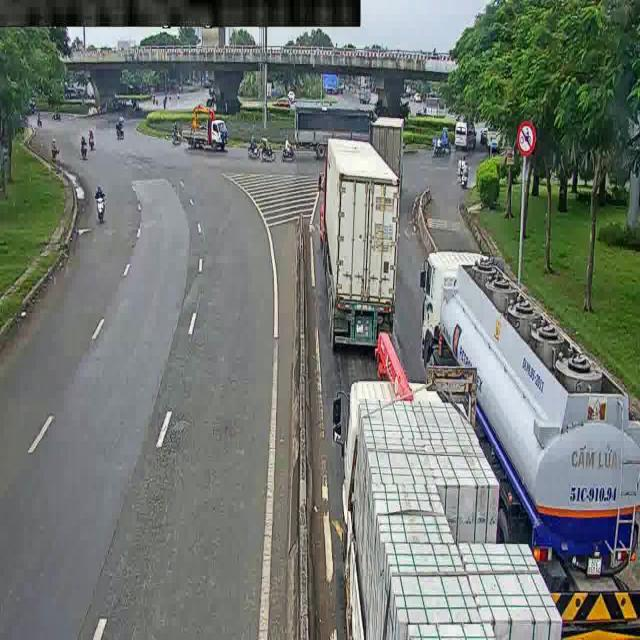motorbike: (85, 187, 117, 228), (456, 158, 482, 193), (256, 130, 284, 161), (244, 134, 268, 165), (73, 132, 97, 156), (433, 136, 455, 158), (110, 121, 129, 145), (82, 126, 102, 148), (281, 138, 295, 158), (49, 138, 62, 156), (47, 107, 63, 121), (35, 114, 47, 126)
truck: (410, 253, 640, 594), (321, 361, 554, 640), (319, 135, 409, 368), (290, 101, 381, 152), (363, 101, 405, 203), (176, 104, 232, 155), (458, 118, 484, 150)
